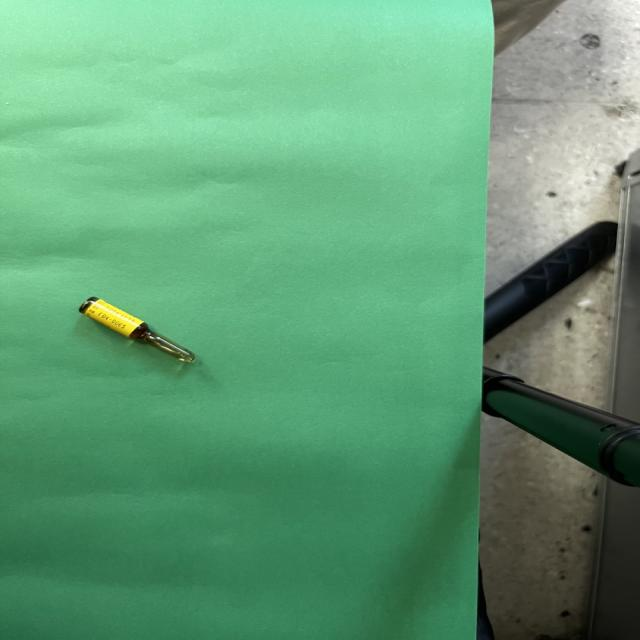Ampoules: (79, 297, 195, 362)
